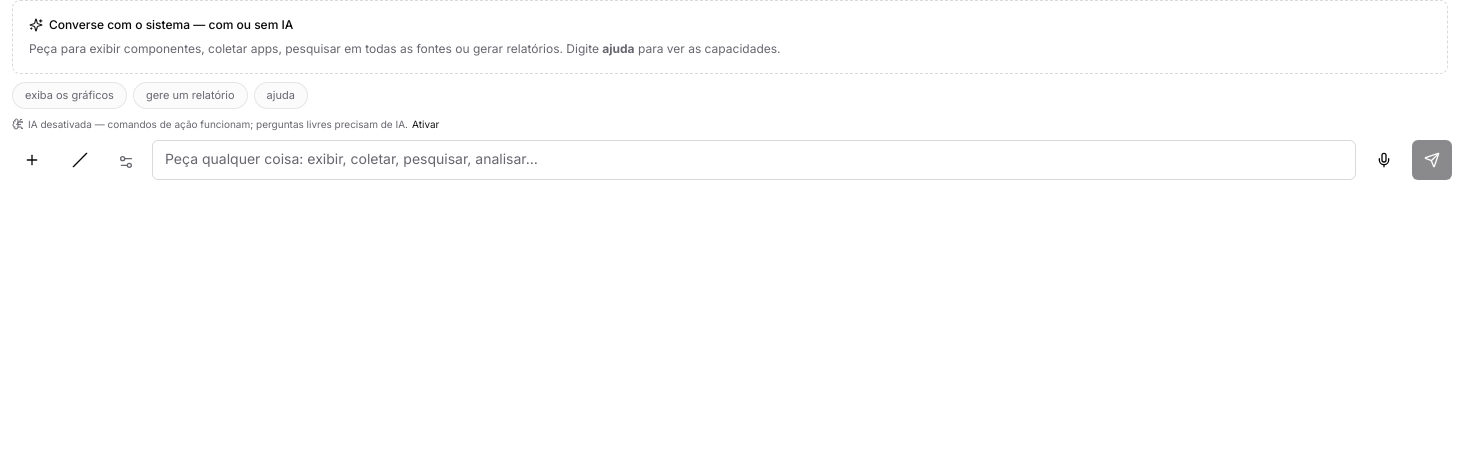
it: UnifiedChatPanel — sem IA (ações locais) › "exiba a página de pipeline" embute o pipeline
Type "exiba a página de pipeline" into the text box named "Mensagem para a IA".
click(754, 160); type("exiba a página de pipeline")  # box [152,140,1356,180]
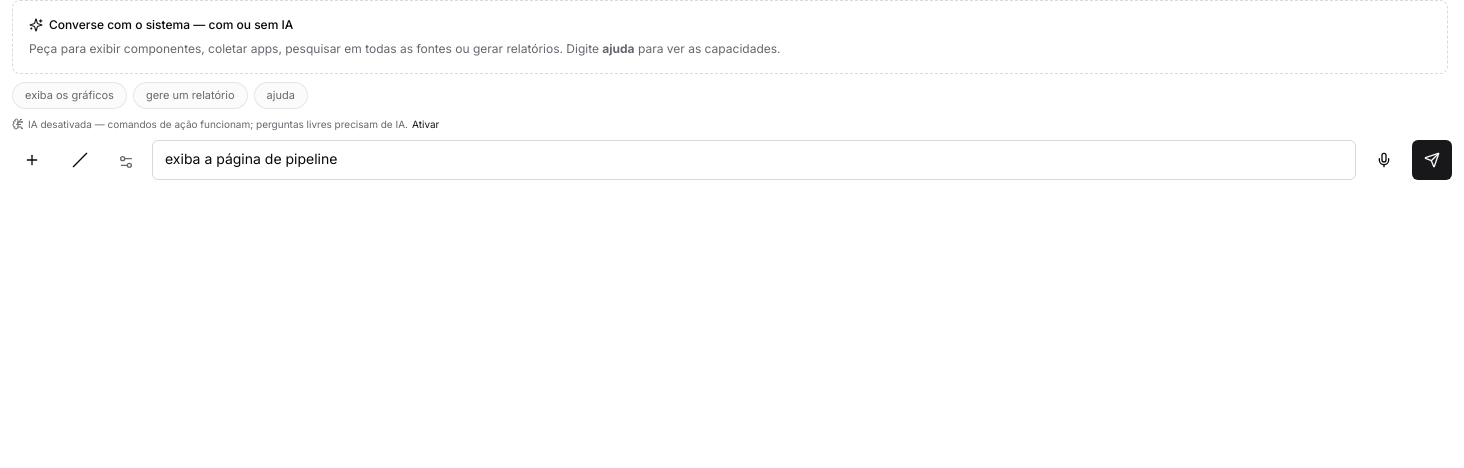
Press Enter in the text box named "Mensagem para a IA", box [152,140,1356,180]
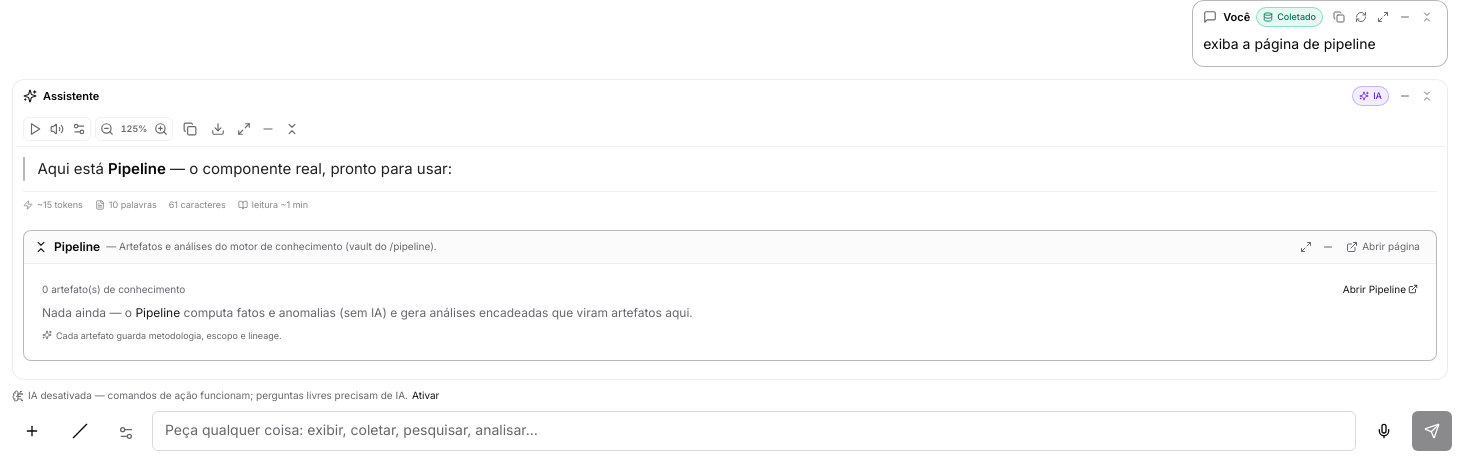
Expected: the element named "Componente embutido: Pipeline" is shown, [23,230,1437,361]
